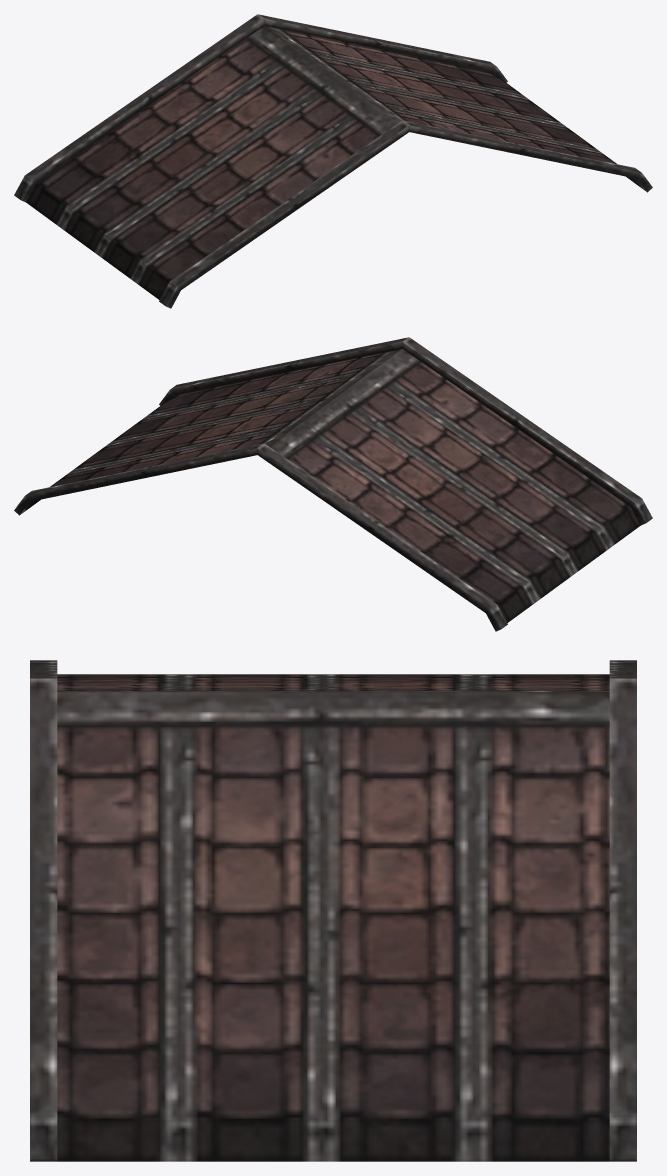
The picture shows the model from 3 angles, top to bottom: view 1: azimuth 30°, elevation 25°; view 2: azimuth 150°, elevation 25°; view 3: azimuth 270°, elevation 25°; orthographic projection. The views are drawn at different scales.
Visible parts, largest first — view 1: object133; view 2: object133; view 3: object133.
Boxes of the visible parts, <box> form: object133: <box>14,14,652,308</box>; object133: <box>14,337,652,631</box>; object133: <box>30,660,636,1161</box>.
Bounding box in the file's own units: 564 × 139 × 304.
1 material, 1 textured.
